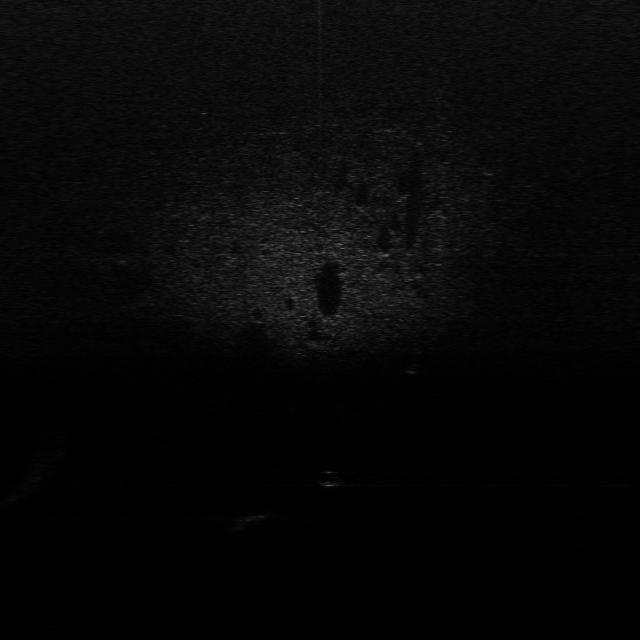ball: (316, 467, 343, 490)
square cage: (222, 505, 279, 527)
tyre: (404, 340, 434, 374)
